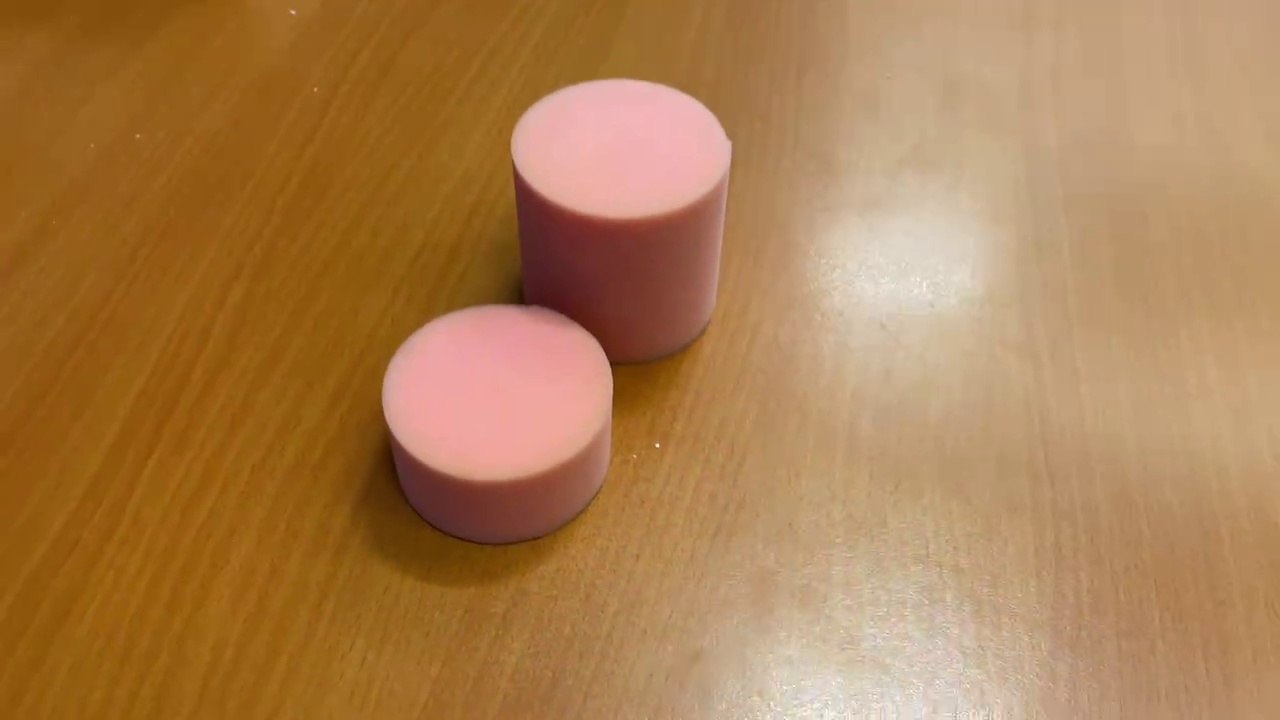Clyinder_short: (369, 293, 624, 549)
Cylinder: (501, 70, 735, 371)
